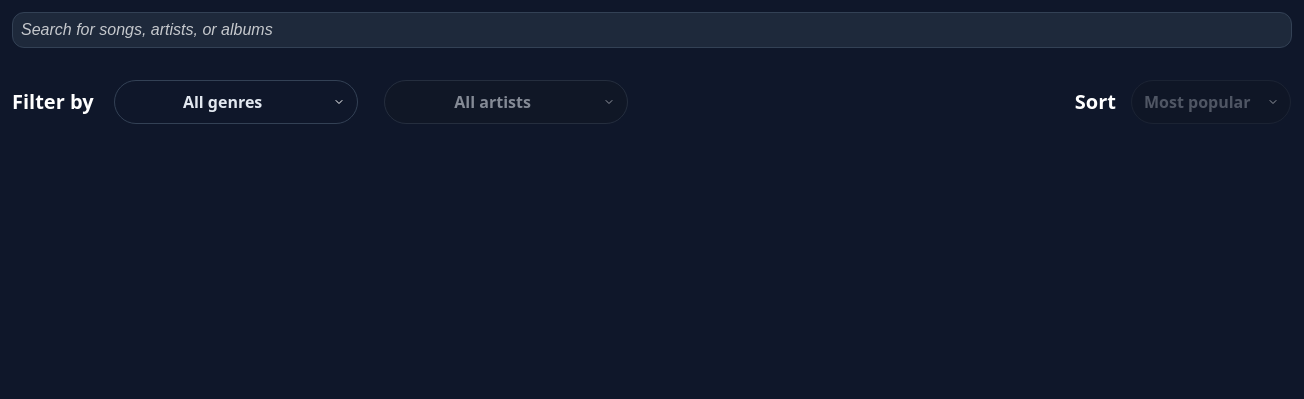
SongSearch › runs a search when typing and displays results
Step 1. Type "ab" into the search field named "Søkefelt" → [652, 30], box left=12, top=12, right=1292, bottom=48
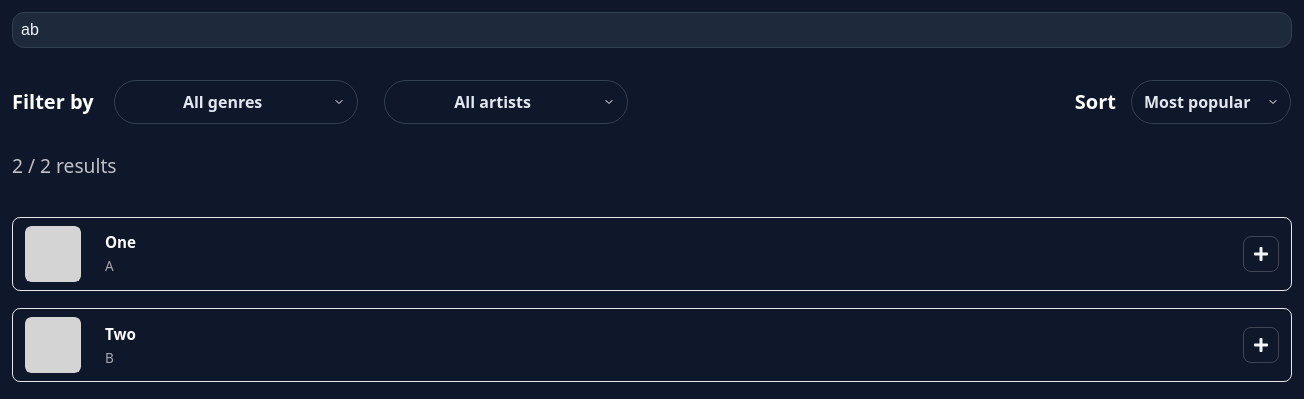
Check: the heading "One" is shown, box left=105, top=232, right=136, bottom=252
Check: the heading "Two" is shown, box left=105, top=324, right=136, bottom=344
